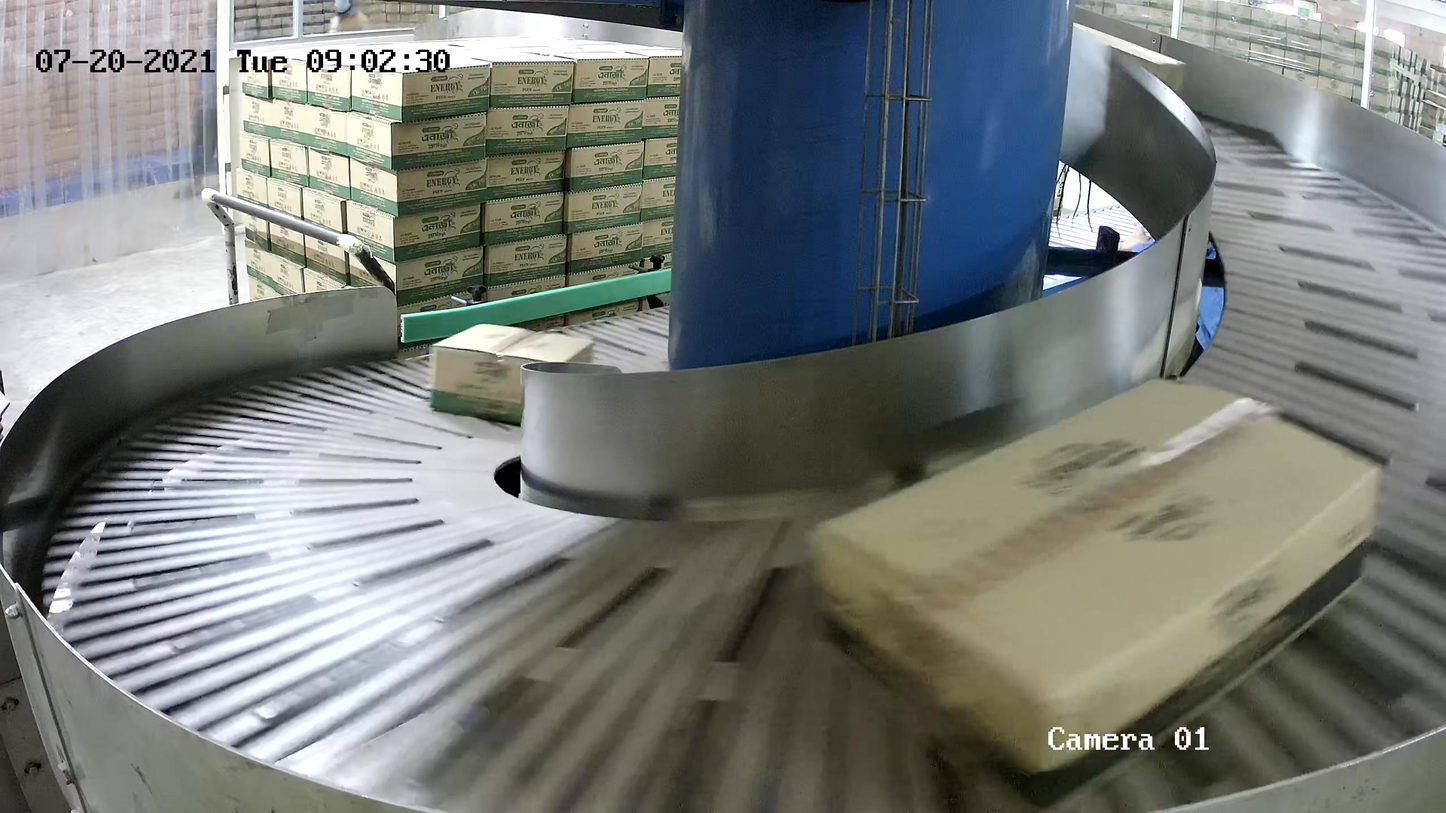Box: (804, 374, 1387, 811), (428, 321, 595, 427)
